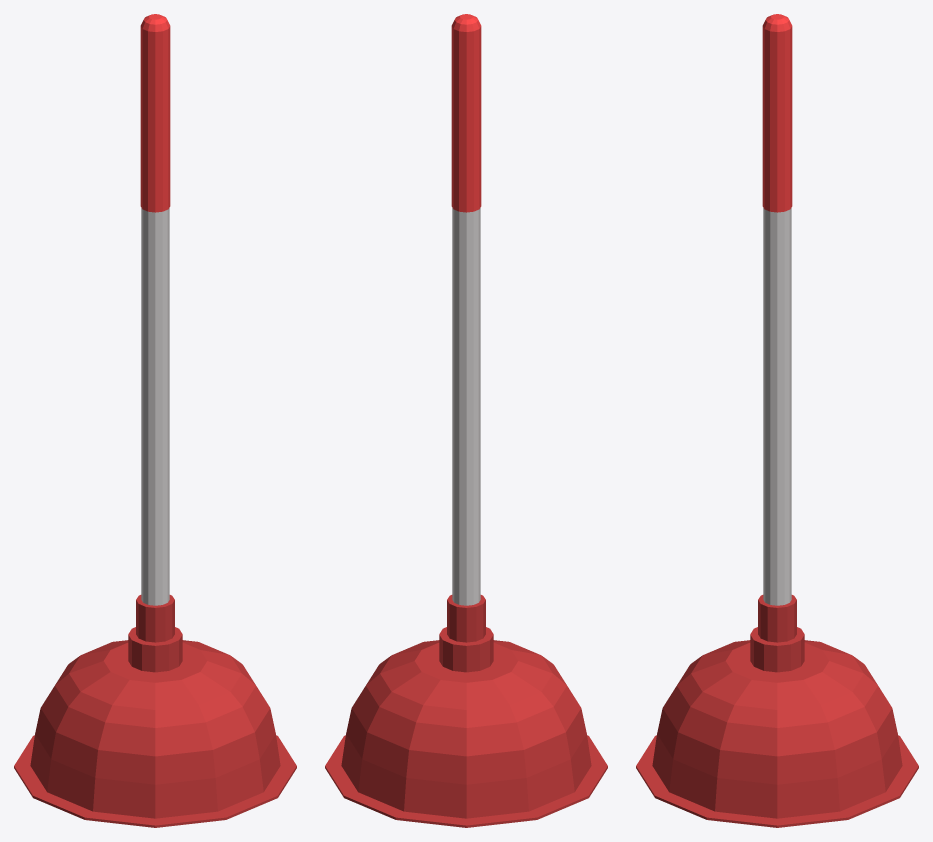
File: plunger_0528.fbx
3 views of the same model, side by side, from view 1: azimuth 30°, elevation 25°; view 2: azimuth 150°, elevation 25°; view 3: azimuth 270°, elevation 25° (orthographic).
Visible parts, largest first — view 1: Object001; view 2: Object001; view 3: Object001.
Boxes of the visible parts, x1=… form: Object001: x1=14, y1=14, x2=296, y2=827; Object001: x1=325, y1=14, x2=607, y2=827; Object001: x1=636, y1=14, x2=918, y2=827.
Bounding box in the file's own units: 41.22 × 121 × 41.22.
Materials: 1 (1 with a texture image).
